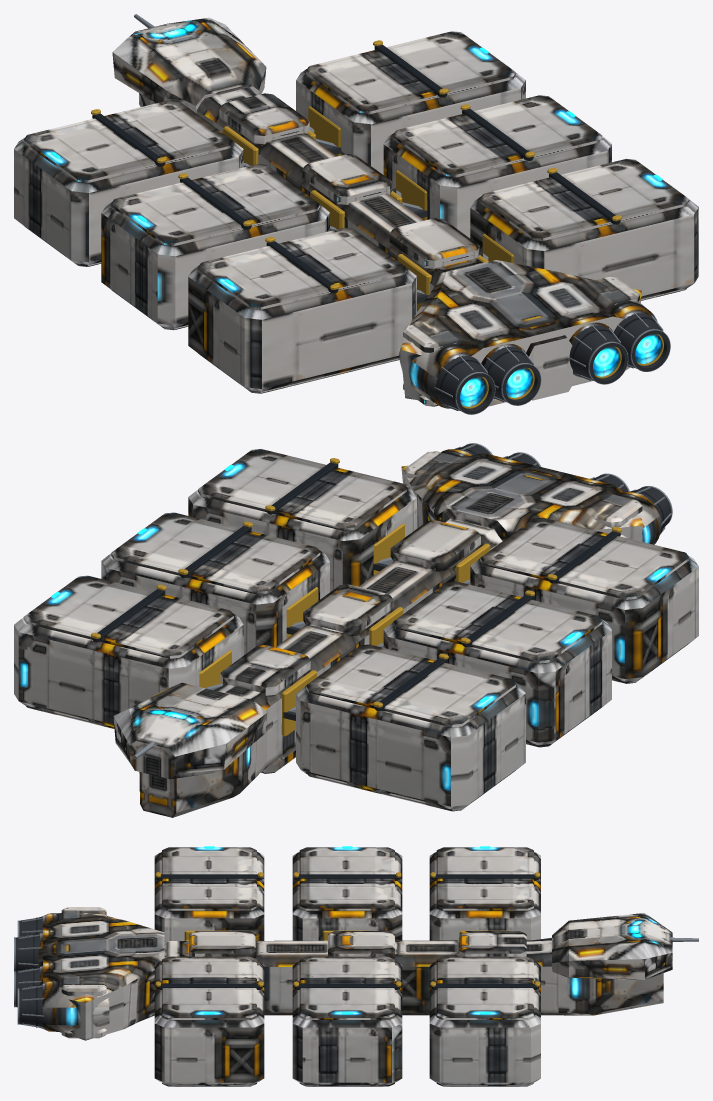
The model's file is medium-freighter.glb.
The picture shows the model from 3 angles, top to bottom: view 1: azimuth 30°, elevation 25°; view 2: azimuth 150°, elevation 25°; view 3: azimuth 270°, elevation 25°; orthographic projection. The views are drawn at different scales.
Visible parts, largest first — view 1: Reference artwork | titanium, brass, panels and canopy, Structural frames | gunmetal, Warm brass collars, Structural rails | dark alloy, Machined titanium edges, Ventral armor | dedicated bottom-view reference; view 2: Reference artwork | titanium, brass, panels and canopy, Warm brass collars, Structural rails | dark alloy, Ventral armor | dedicated bottom-view reference, Structural frames | gunmetal, Machined titanium edges; view 3: Reference artwork | titanium, brass, panels and canopy, Structural rails | dark alloy, Structural frames | gunmetal, Ventral armor | dedicated bottom-view reference, Machined titanium edges, Warm brass collars.
Part boxes in pixels (left/top/right/bottom): Reference artwork | titanium, brass, panels and canopy: left=14, top=17, right=698, bottom=406; Structural frames | gunmetal: left=327, top=146, right=670, bottom=414; Warm brass collars: left=91, top=40, right=663, bottom=408; Structural rails | dark alloy: left=92, top=44, right=655, bottom=405; Machined titanium edges: left=134, top=14, right=670, bottom=414; Ventral armor | dedicated bottom-view reference: left=18, top=120, right=693, bottom=408; Reference artwork | titanium, brass, panels and canopy: left=14, top=449, right=698, bottom=817; Warm brass collars: left=91, top=458, right=621, bottom=736; Structural rails | dark alloy: left=92, top=448, right=664, bottom=710; Ventral armor | dedicated bottom-view reference: left=19, top=478, right=695, bottom=817; Structural frames | gunmetal: left=283, top=444, right=671, bottom=720; Machined titanium edges: left=133, top=443, right=672, bottom=759; Reference artwork | titanium, brass, panels and canopy: left=38, top=847, right=672, bottom=1085; Structural rails | dark alloy: left=33, top=874, right=539, bottom=1027; Structural frames | gunmetal: left=15, top=916, right=42, bottom=1028; Ventral armor | dedicated bottom-view reference: left=42, top=958, right=672, bottom=1086; Machined titanium edges: left=14, top=917, right=698, bottom=1028; Warm brass collars: left=155, top=872, right=540, bottom=986.
Size of the model in its own units: 11.47 by 2.56 by 18.88.
Materials: 7 (2 with a texture image).
